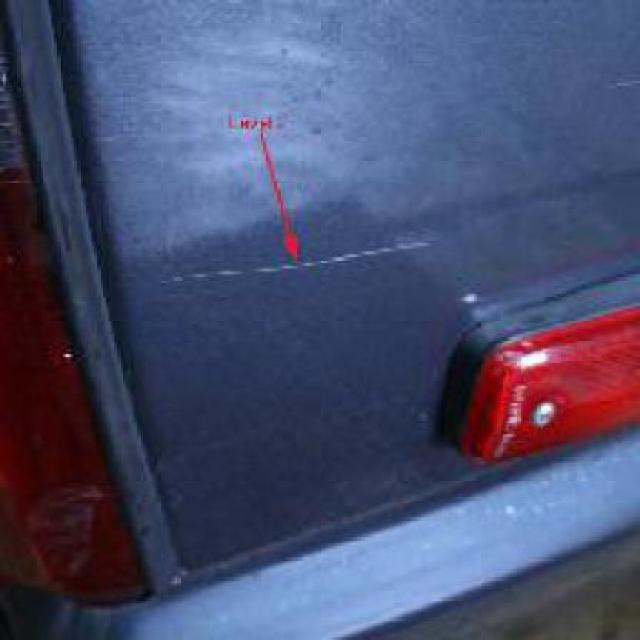dent-or-scratch: (162, 234, 442, 294)
